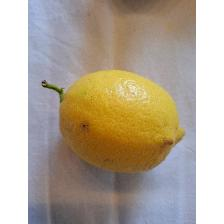Zitrone: (36, 61, 188, 178)
